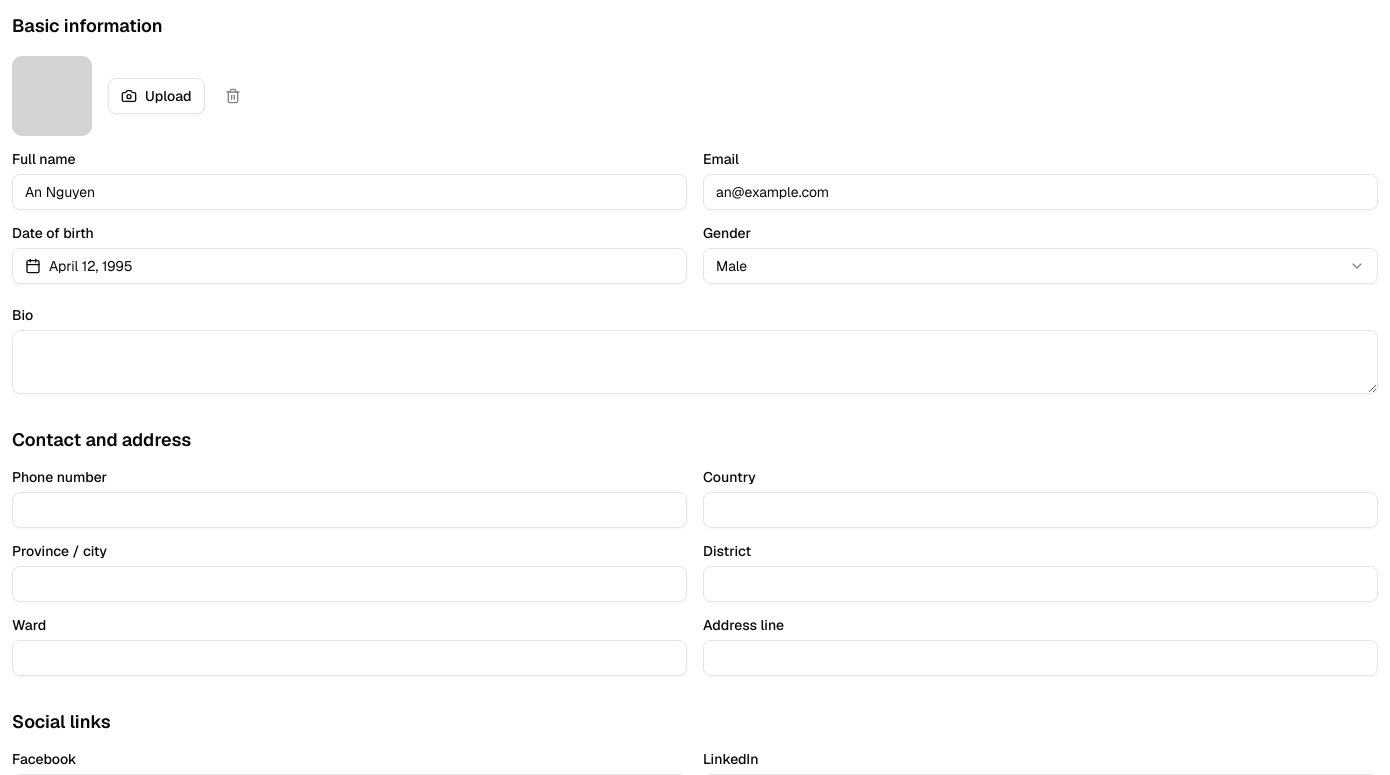
it: ProfileForm › uses shadcn controls for date of birth and gender
Expected: the button with aria-label "date of birth" reads "April 12, 1995", [12, 248, 687, 284]
Click the dropdown named "gender".
click(732, 266)  # box [703, 248, 1378, 284]
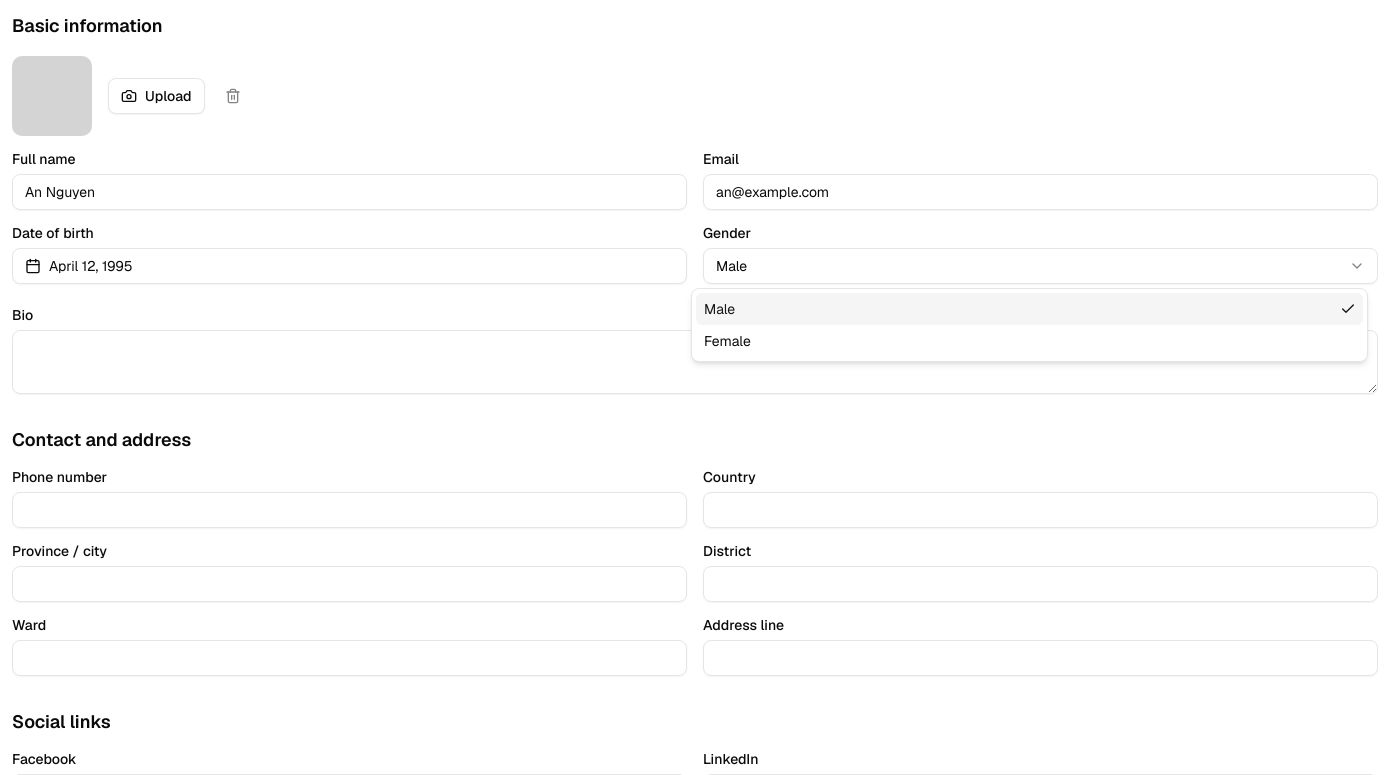
Expected: the option "Male" is shown, [696, 293, 1363, 325]
Expected: the option "Female" is shown, [704, 332, 751, 350]
